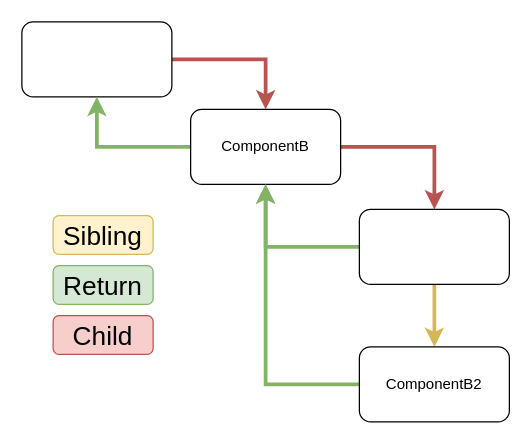
This 531x444 diagram has some shape labels left out. The shapes that lost their labels are listed below. From the top down, each one's box as (x1, y1, x2, y2) in pixels, then its label:
(21, 21, 172, 97): ComponentA
(358, 208, 509, 284): ComponentB1
